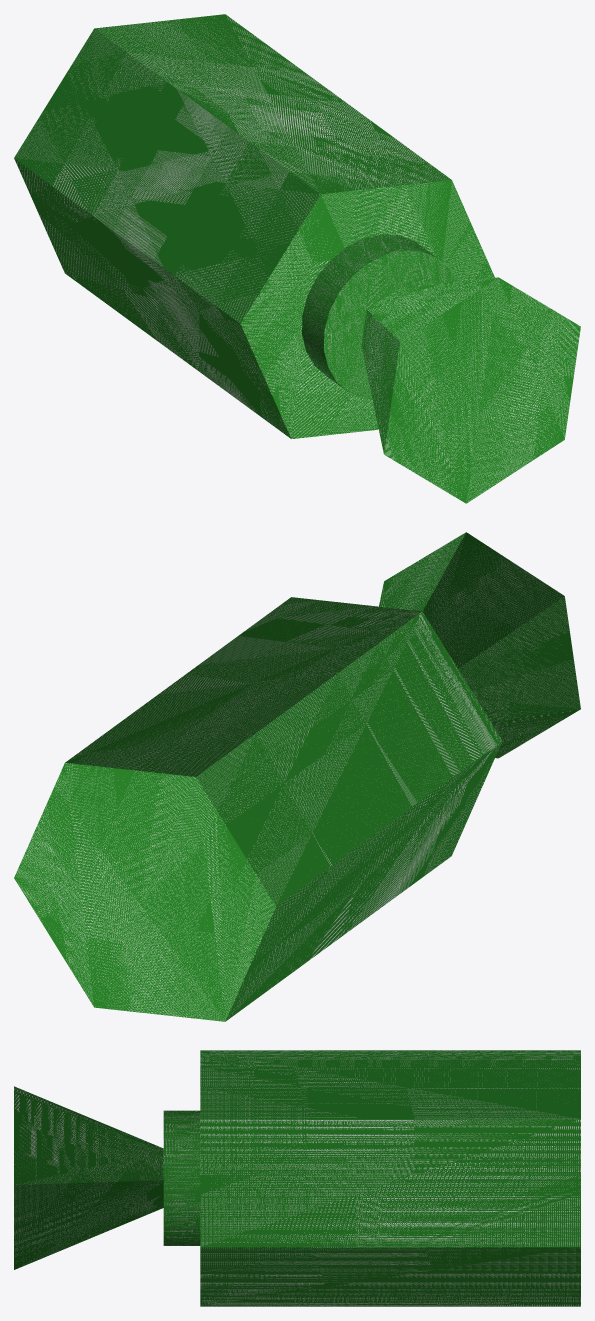
The model's file is model_scale.obj.
3 views of the same model, one above another, from view 1: azimuth 30°, elevation 25°; view 2: azimuth 150°, elevation 25°; view 3: azimuth 270°, elevation 25° (orthographic). The views are drawn at different scales.
Parts seen in each view (by area): view 1: mesh2_mesh2-geometry, mesh1_mesh1-geometry; view 2: mesh2_mesh2-geometry, mesh1_mesh1-geometry; view 3: mesh2_mesh2-geometry, mesh1_mesh1-geometry.
Part boxes in pixels (bbox=[...]): mesh2_mesh2-geometry: bbox=[14, 14, 494, 438]; mesh1_mesh1-geometry: bbox=[302, 234, 580, 503]; mesh2_mesh2-geometry: bbox=[14, 597, 502, 1021]; mesh1_mesh1-geometry: bbox=[379, 532, 580, 758]; mesh2_mesh2-geometry: bbox=[200, 1050, 580, 1306]; mesh1_mesh1-geometry: bbox=[14, 1086, 200, 1269].
Size of the model in its own units: 0.1006 by 0.0936 by 0.2242.
